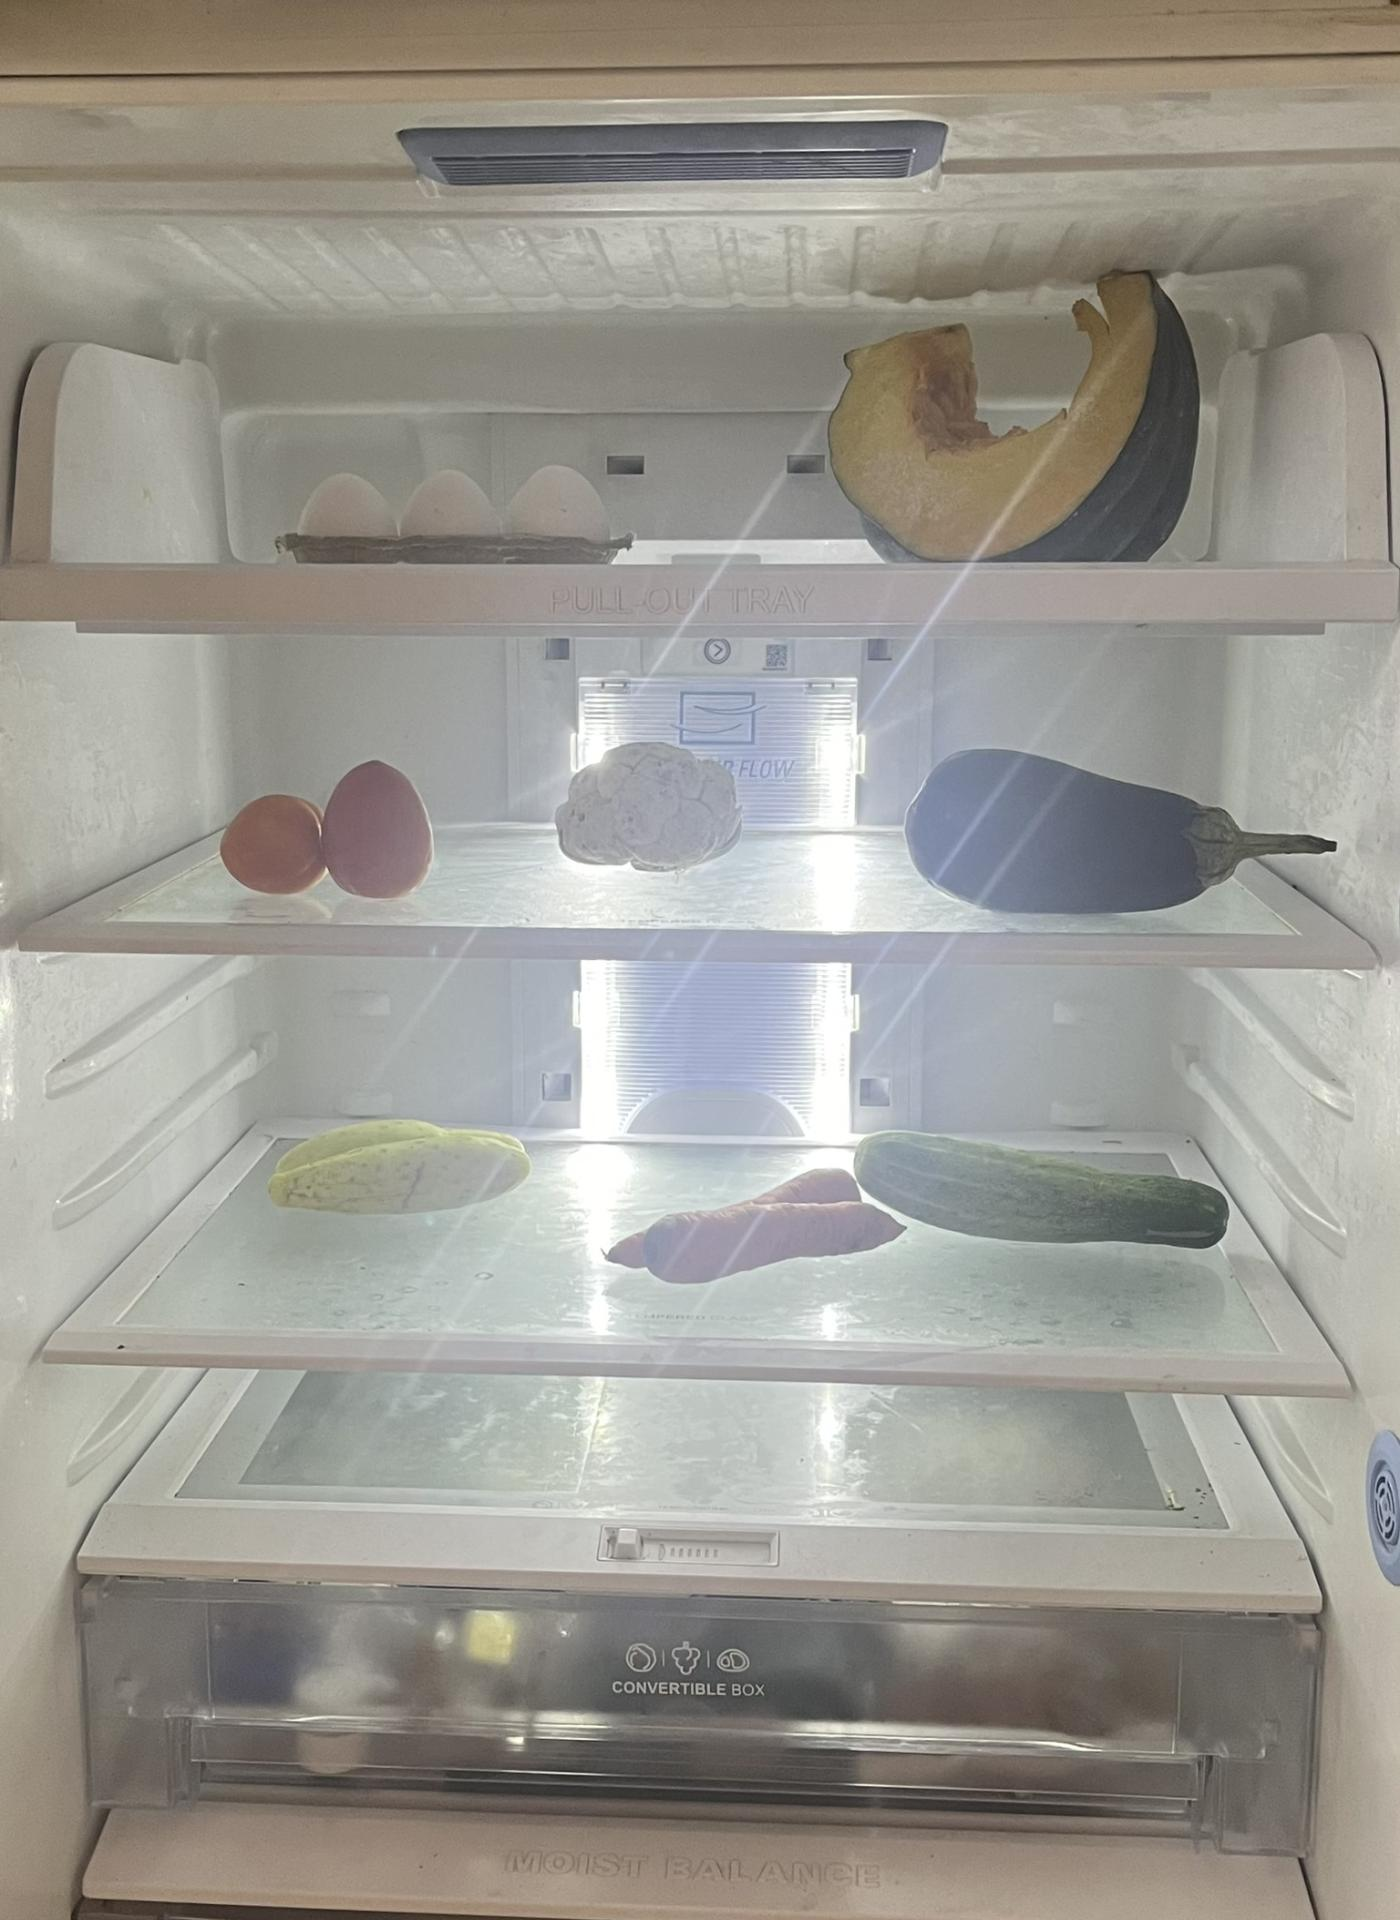carrots: (593, 1166, 906, 1275)
cauliflower: (553, 740, 741, 865)
cucumber: (857, 1122, 1227, 1250), (264, 1116, 550, 1206)
egg: (292, 466, 623, 562)
pumpkin: (833, 269, 1206, 559)
tomato: (219, 759, 434, 894)
